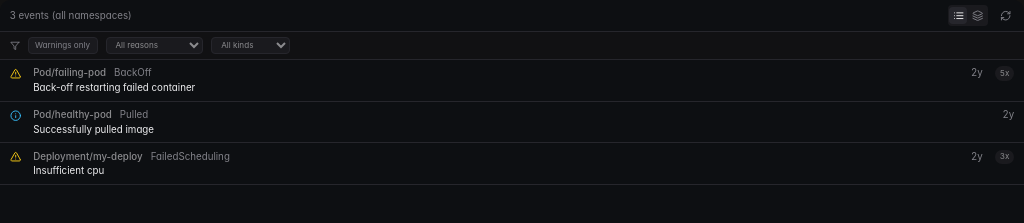
Test: EventsTab › switches to correlation/grouped view when toggle is clicked
Expected: the text "Pod/failing-pod" is shown, top-left (33, 66), bottom-right (106, 79)
Switch to grouped view
What coordinates should you click on to do the following:
click the radio button with test id "view-mode-grouped"
I would click on:
 (978, 15)
Its box is top-left (969, 6), bottom-right (987, 24).
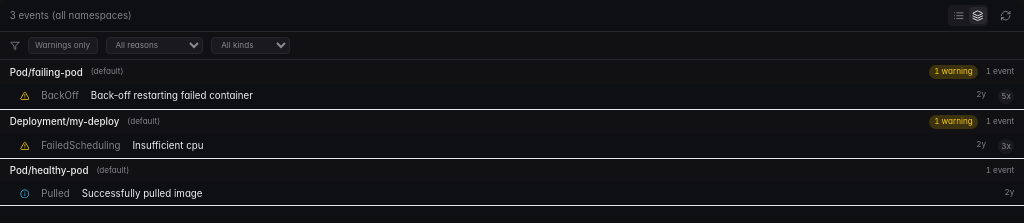
Expected: the text "Pod/failing-pod" is shown, top-left (10, 66), bottom-right (83, 79)
Expected: the element with test id "correlation-view" is shown
